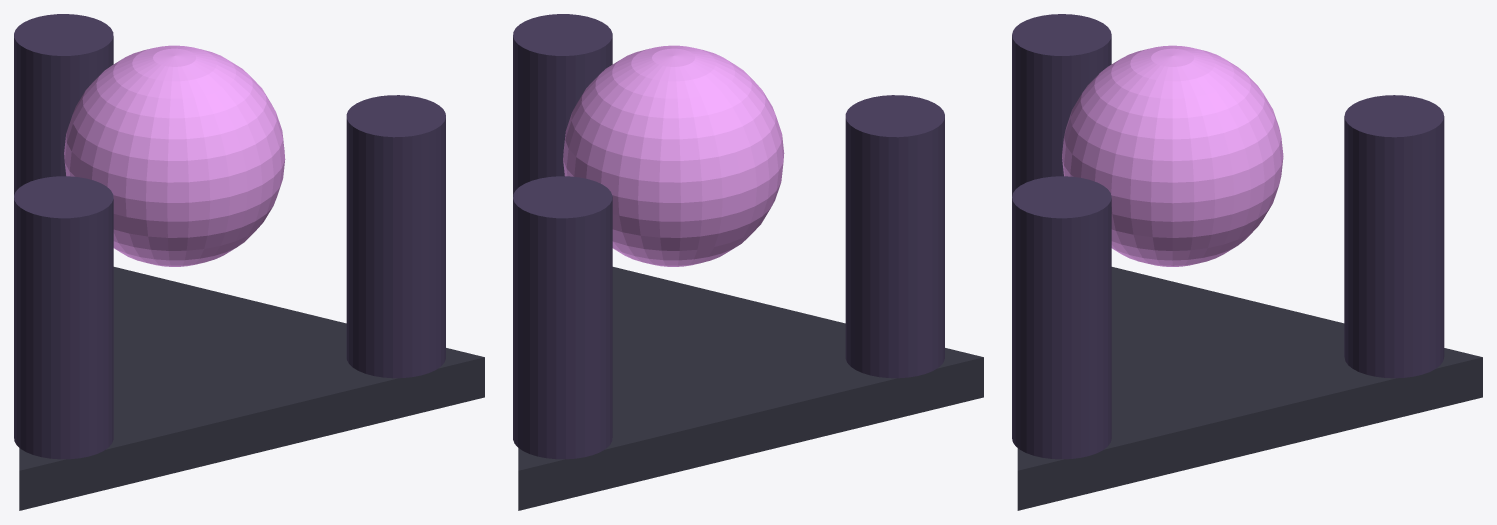
Rendered from CH_PowerPlant.fbx.
3 renders of one model, left to right at view 1: azimuth 30°, elevation 25°; view 2: azimuth 150°, elevation 25°; view 3: azimuth 270°, elevation 25°, orthographic.
Visible parts, largest first — view 1: Cylinder, Sphere, Cylinder.002, Cylinder.003, Cylinder.001; view 2: Cylinder, Sphere, Cylinder.002, Cylinder.001, Cylinder.003; view 3: Cylinder, Sphere, Cylinder.001, Cylinder.003, Cylinder.002.
Boxes of the visible parts, <box> form: Cylinder: <box>19,267,484,510</box>; Sphere: <box>64,45,285,266</box>; Cylinder.002: <box>14,176,113,459</box>; Cylinder.003: <box>346,95,445,378</box>; Cylinder.001: <box>14,14,113,195</box>; Cylinder: <box>518,267,983,510</box>; Sphere: <box>563,45,784,266</box>; Cylinder.002: <box>845,95,944,378</box>; Cylinder.001: <box>513,176,612,459</box>; Cylinder.003: <box>513,14,612,196</box>; Cylinder: <box>1017,267,1482,510</box>; Sphere: <box>1062,45,1283,266</box>; Cylinder.001: <box>1344,95,1444,378</box>; Cylinder.003: <box>1012,176,1111,459</box>; Cylinder.002: <box>1012,14,1111,196</box>.
Size of the model in its own units: 485 by 340 by 425.
